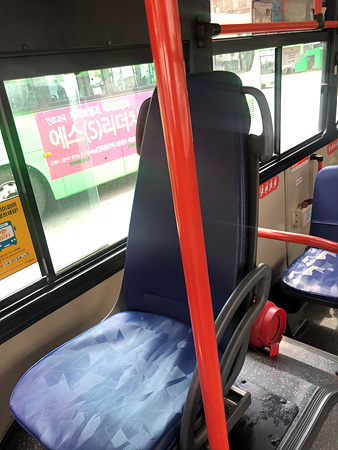seat: (13, 77, 258, 449)
